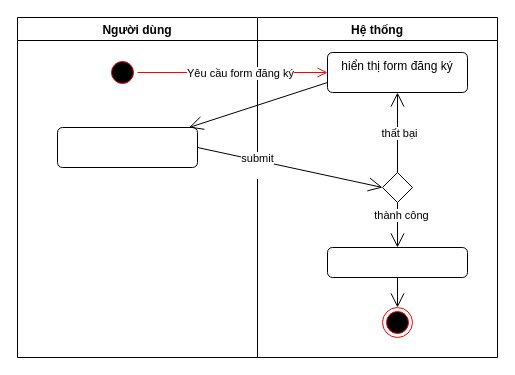
Some shapes in this 515 by 375 pixel diagram are drawn without their labels. The centre of each missing label's shape, as x and y in pixels:
"Nhập thông tin đăng ký" belongs at pixel 127 147.
"thêm vào csdl" belongs at pixel 397 262.
